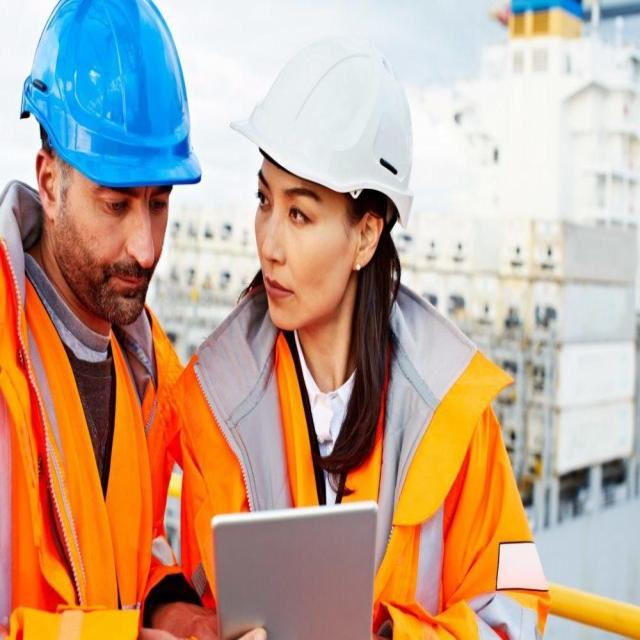Reflective-Jacket: (178, 294, 510, 628), (0, 254, 184, 635)
Safety-Helmet: (17, 2, 206, 190), (232, 29, 420, 214)
